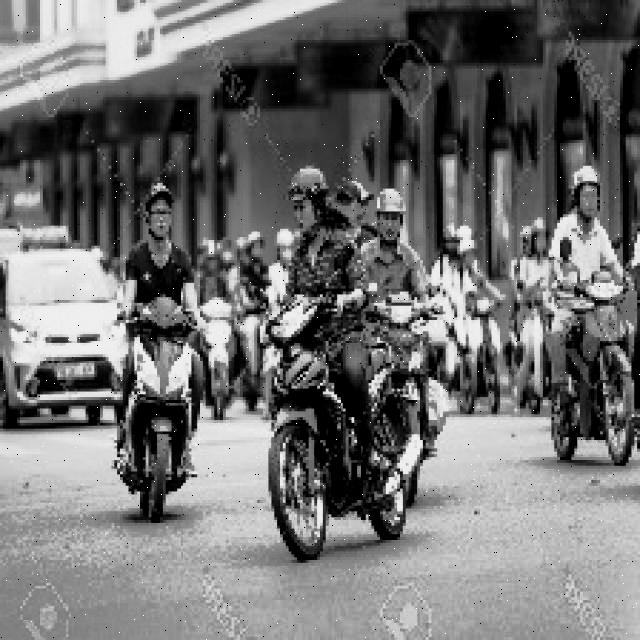Bike: (260, 315, 403, 563), (538, 248, 632, 470), (120, 307, 201, 517)
